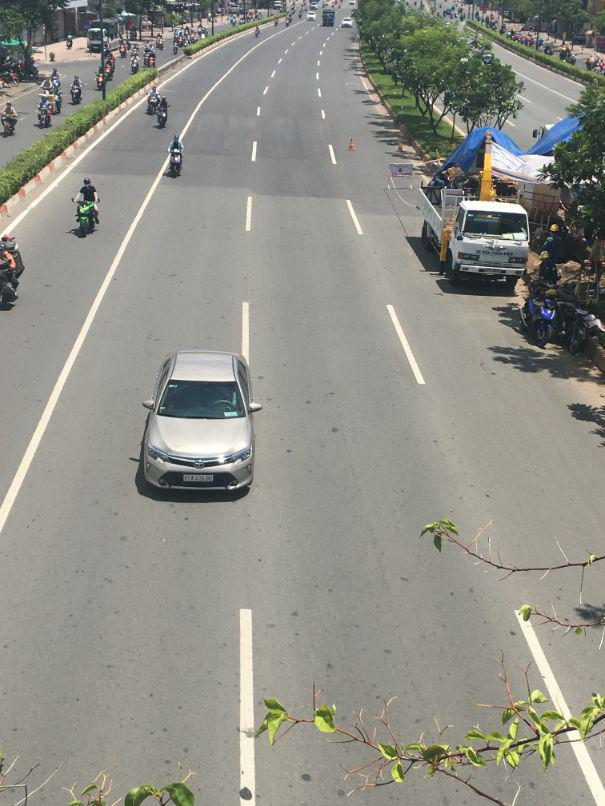car: (135, 345, 259, 502), (322, 12, 334, 28), (341, 18, 354, 30)
motorbike: (71, 188, 101, 236), (147, 92, 167, 122), (169, 137, 184, 177), (151, 98, 168, 129), (2, 109, 18, 136), (39, 99, 54, 127), (72, 75, 83, 102)
truck: (412, 182, 531, 288)
